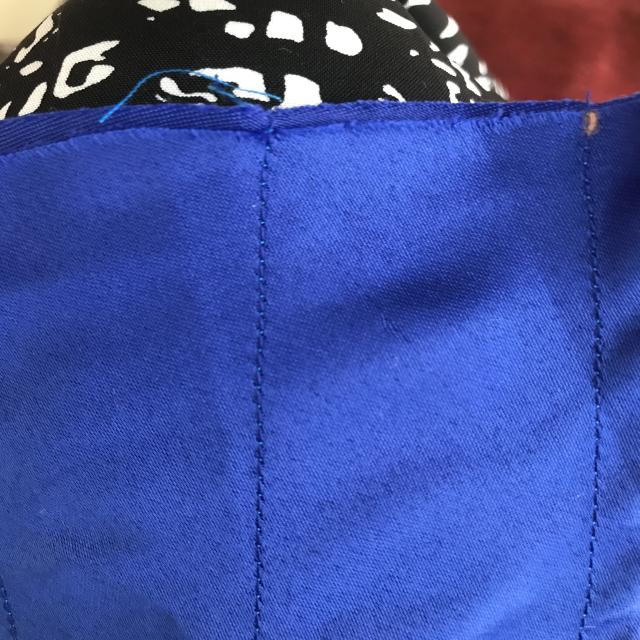good: (238, 197, 284, 397), (249, 434, 281, 597), (577, 200, 612, 334), (584, 437, 608, 578)
